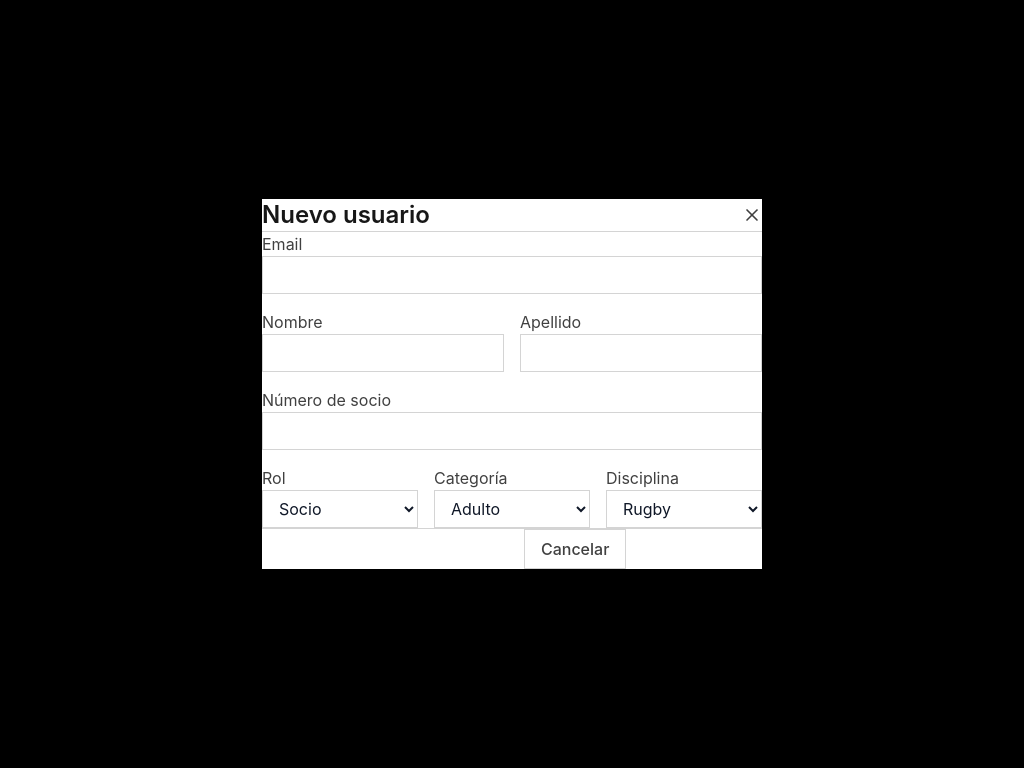
Test: CreateUserModal › shows validation error for invalid email format
Type "not-an-email" into the field labelled "Email" at coordinates (512, 275), box [262,256,762,294]
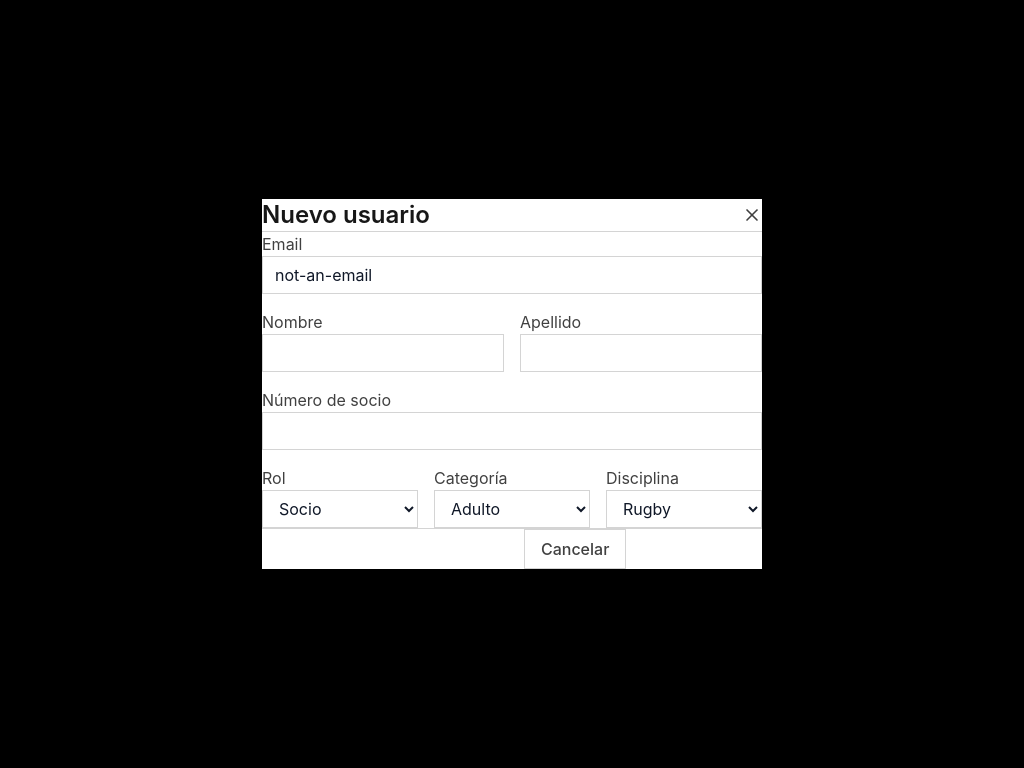
Click the button "Crear usuario" at coordinates (694, 549), box [626,529,762,569]
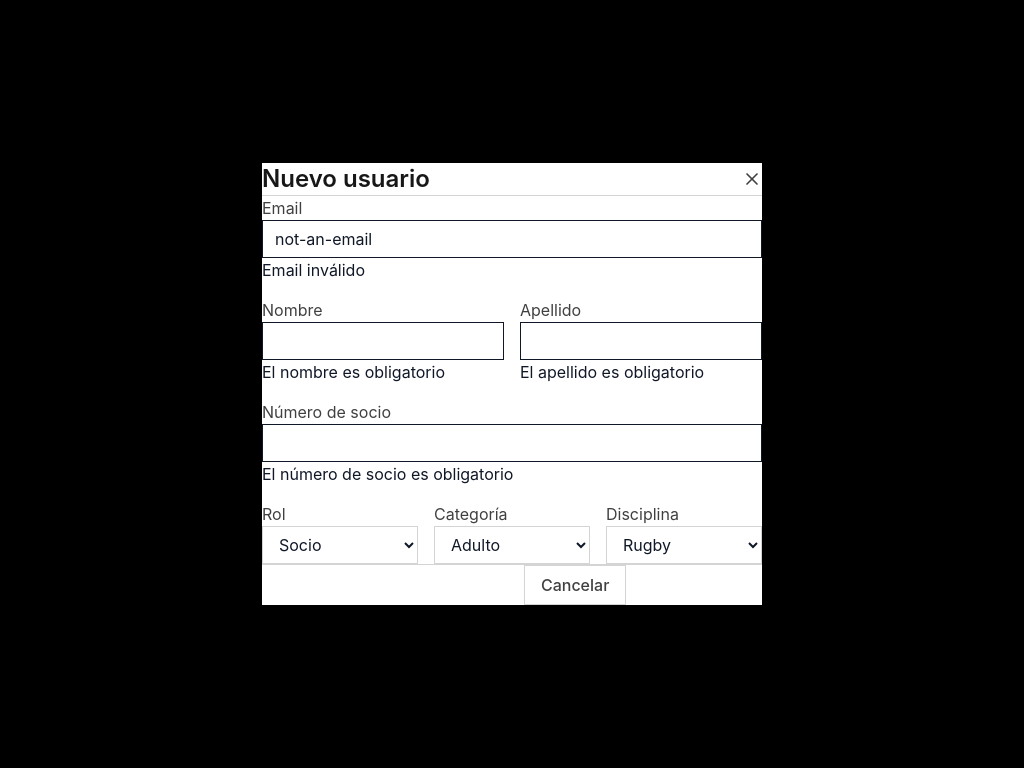
expect the text "Email inválido" is shown: met, box [262,260,365,280]
